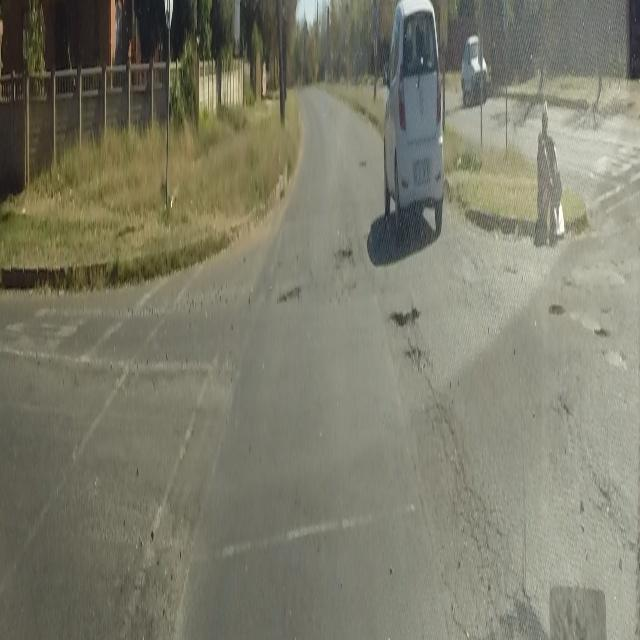pothole: (542, 273, 612, 345), (276, 246, 355, 302), (386, 306, 439, 374), (488, 622, 554, 634), (359, 152, 367, 176)
